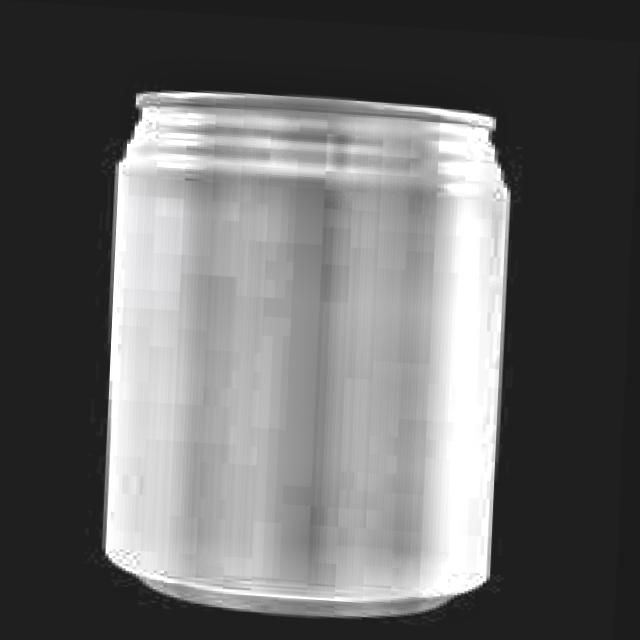can: (96, 74, 527, 630)
